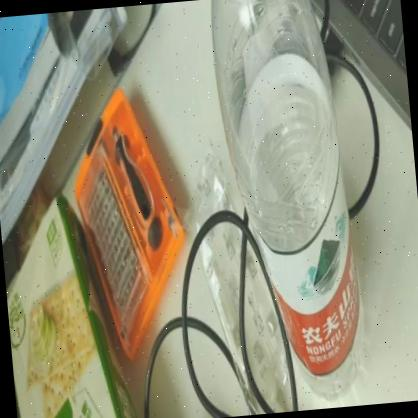bottle: (205, 0, 375, 413)
label: (233, 196, 372, 380)
